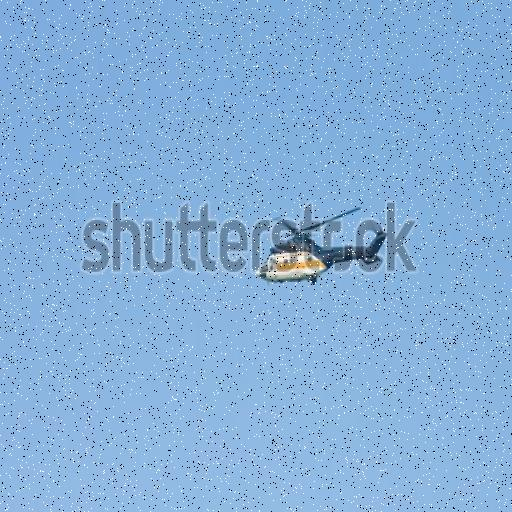helicopter: (258, 208, 388, 293)
